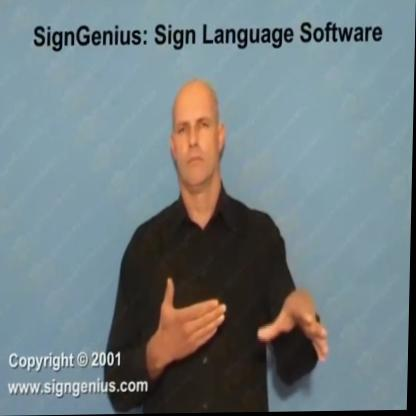Expensive: (161, 259, 340, 385)
